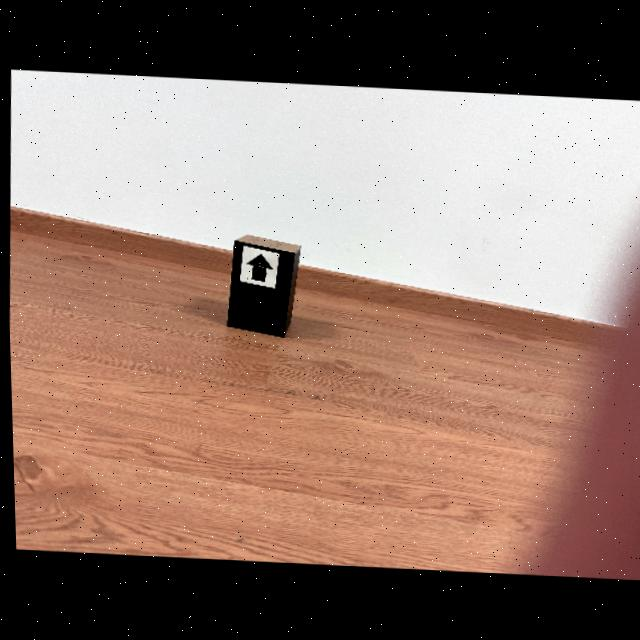UP: (245, 253, 270, 281)
